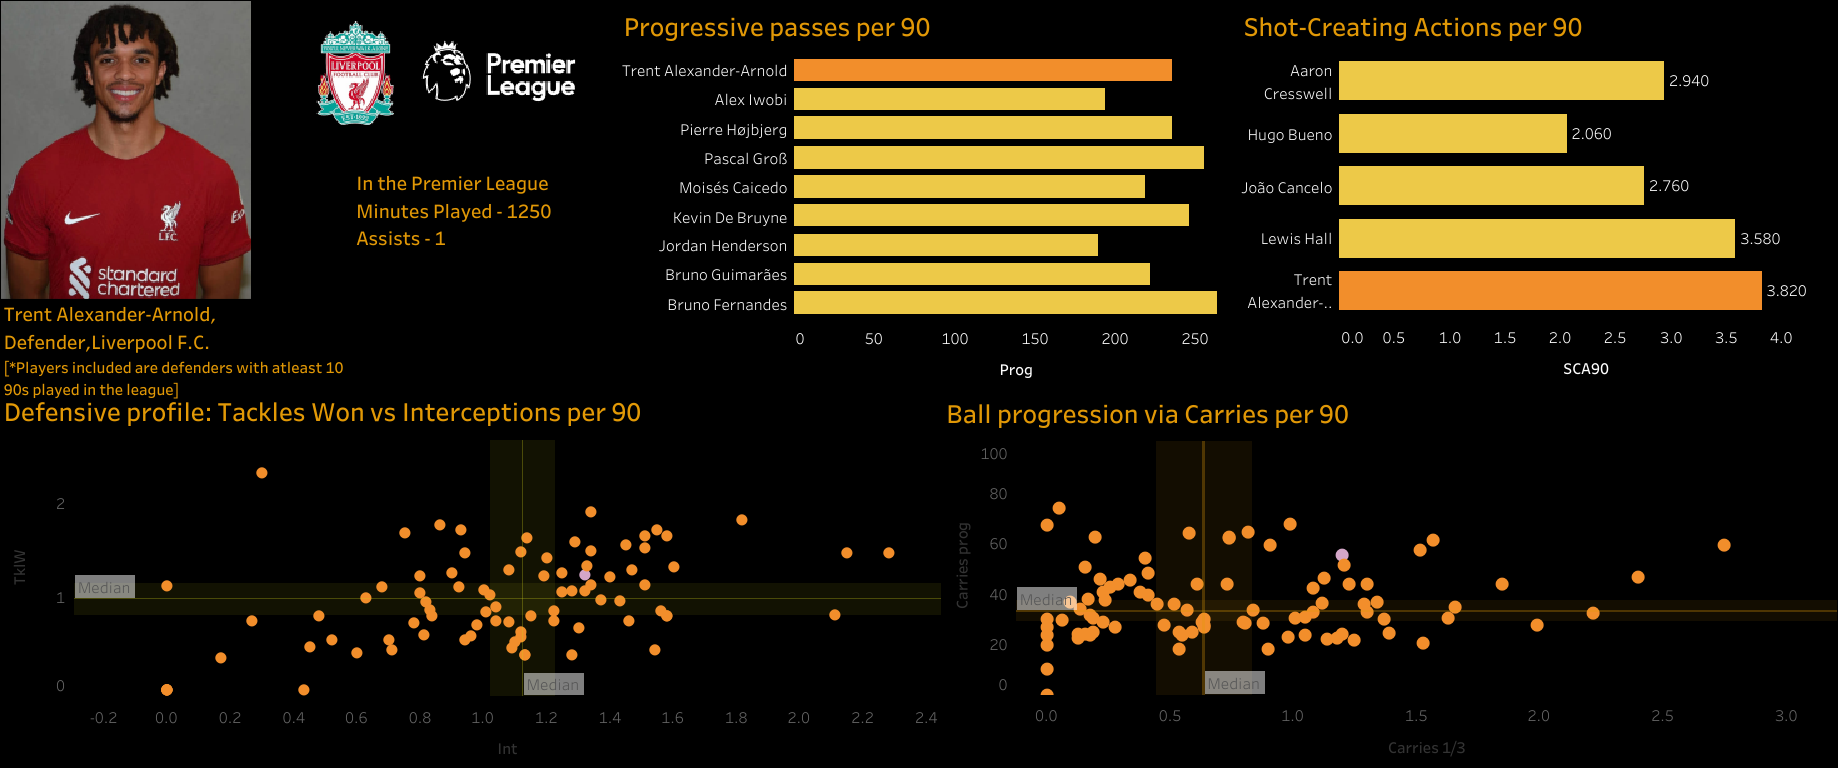

This screenshot's page, from the dashboard's own definition file:
{"tool":"tableau","page":{"name":"Player Dashboard ","canvas":[1000,1000],"units":"permille","ordinal":0},"visuals":[{"type":"image","param":"Image/IMAGE.jpeg","box":[0.6,1.2,167.1,387.8]},{"type":"worksheet","title":"Sheet 3","mark":"Automatic","cols":["PrgP"],"box":[336.6,1.2,337.2,505.3]},{"type":"worksheet","title":"Sheet 4","mark":"Automatic","rows":["SCA Player"],"cols":["SCA90"],"box":[673.8,1.2,323.8,502.9]},{"type":"image","param":"Image/LOGO.jpg","box":[168.3,28.2,61.6,134]},{"type":"image","param":"Image/LOGO 2.png","box":[228.1,49.4,107.9,91.7]},{"type":"worksheet","title":"Sheet 6","mark":"Automatic","box":[190.8,210.3,144.5,171.6]},{"type":"worksheet","title":"Sheet 2","mark":"Circle","rows":["Carries"],"cols":["1/3"],"box":[512.2,504.1,487.2,492.4]}]}

Visuals, with their boxes on the dashboard's canvas, which has no fixed pixel size, in thousandths of its width and height (x1, y1, x2, y2). These are canvas units, not pixel positions in the 1838x768 screenshot, which may show the page scaled, cropped or inside an application window:
image: 1:1:168:389
"Sheet 3" worksheet: 337:1:674:506
"Sheet 4" worksheet: 674:1:998:504
image: 168:28:230:162
image: 228:49:336:141
"Sheet 6" worksheet: 191:210:335:382
"Sheet 2" worksheet (Circle marks): 512:504:999:996
